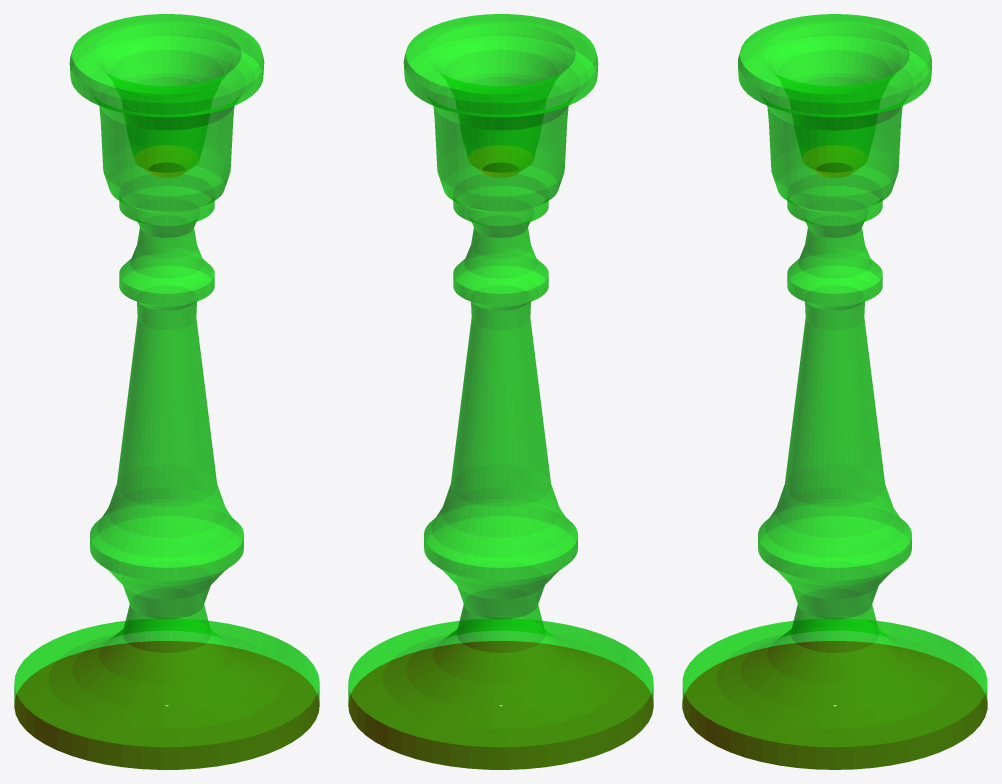
File: lamp_colour.obj
3 views of the same model, side by side, from view 1: azimuth 30°, elevation 25°; view 2: azimuth 150°, elevation 25°; view 3: azimuth 270°, elevation 25° (orthographic).
Bounding box in the file's own units: 0.085 × 0.2 × 0.0849.
